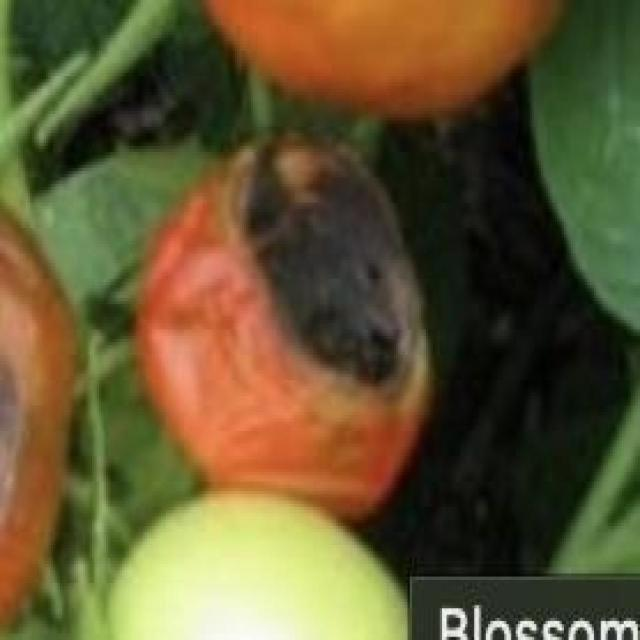Blossom End Rot Fruit: (8, 106, 220, 282)
